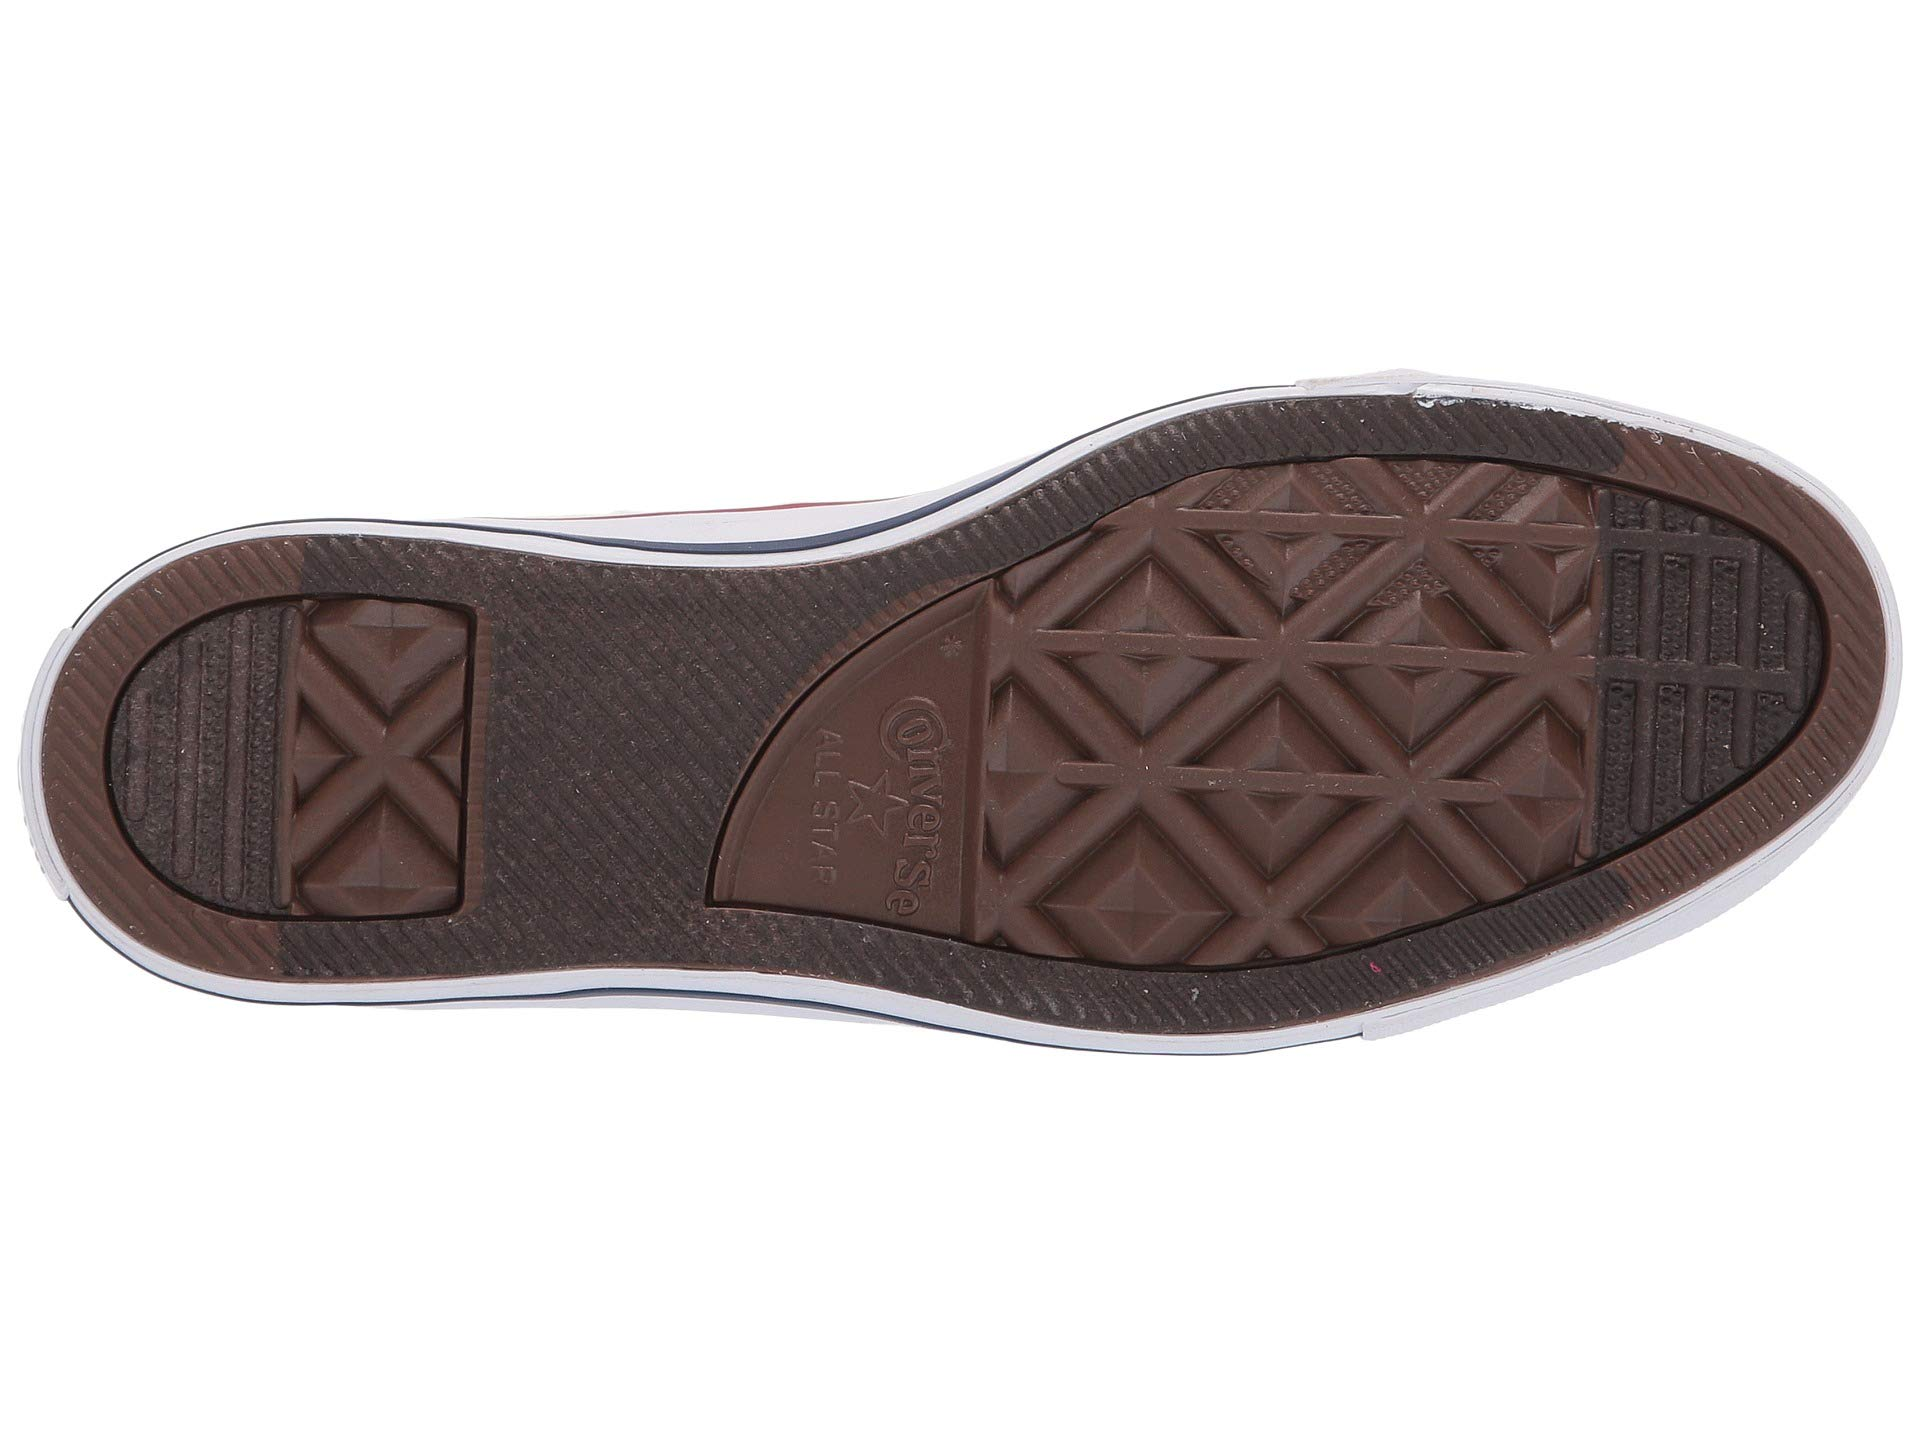chevron: (1045, 283, 1386, 602)
circle: (804, 365, 942, 464)
line: (79, 257, 272, 581), (1542, 145, 1752, 410), (98, 336, 260, 489)
other: (912, 135, 1542, 649), (455, 260, 685, 531)
quad: (1045, 283, 1386, 602), (1542, 145, 1752, 410), (98, 336, 260, 489)
star: (735, 458, 897, 610), (785, 445, 856, 523)
text: (735, 458, 897, 610), (804, 365, 942, 464)
triangle: (1045, 283, 1386, 602)
